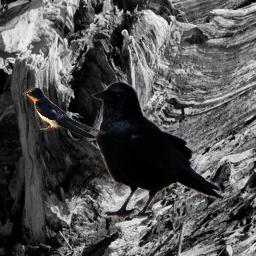Crow: (89, 80, 228, 220)
Swallow: (21, 85, 107, 140)
